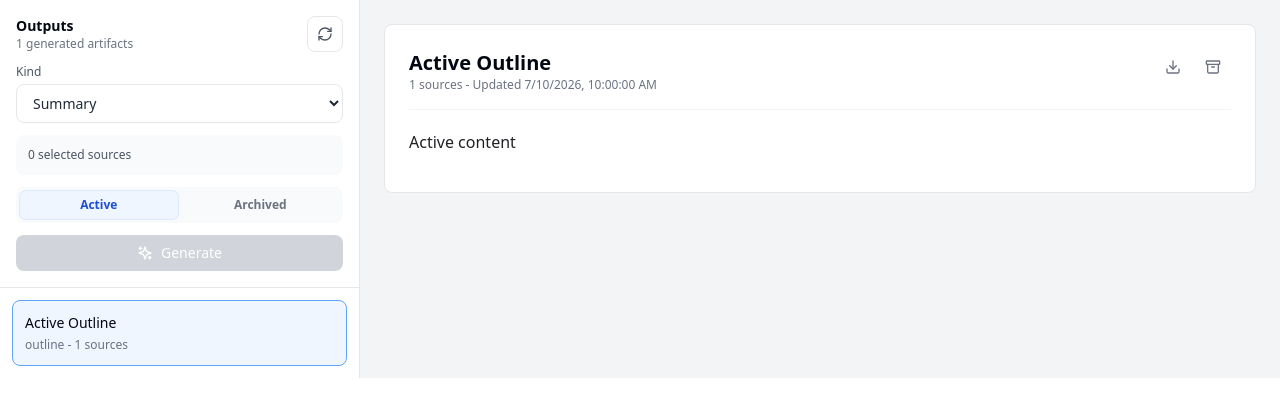
Scenario: OutputsView archived lifecycle › loads active outputs by default and archived outputs through an explicit filter
The width and height of the screenshot is (1280, 395).
Expected: the text "Active Outline" is shown 2 times, 25,313 -> 116,332; 409,49 -> 551,76
Click the button "Archived".
click(260, 205)  # box 182,191 -> 339,219
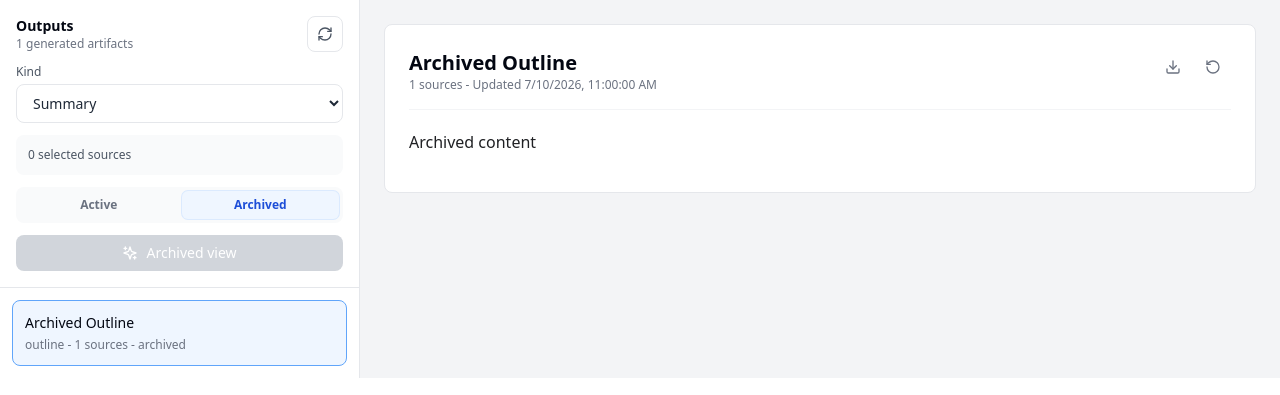
Expected: the text "Archived Outline" is shown 2 times, 25,313 -> 134,332; 409,49 -> 577,76
Now the button "Active Outline" is gone
